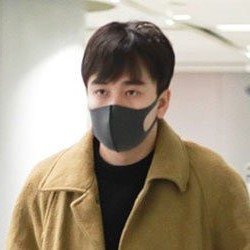mask: (81, 96, 152, 156)
